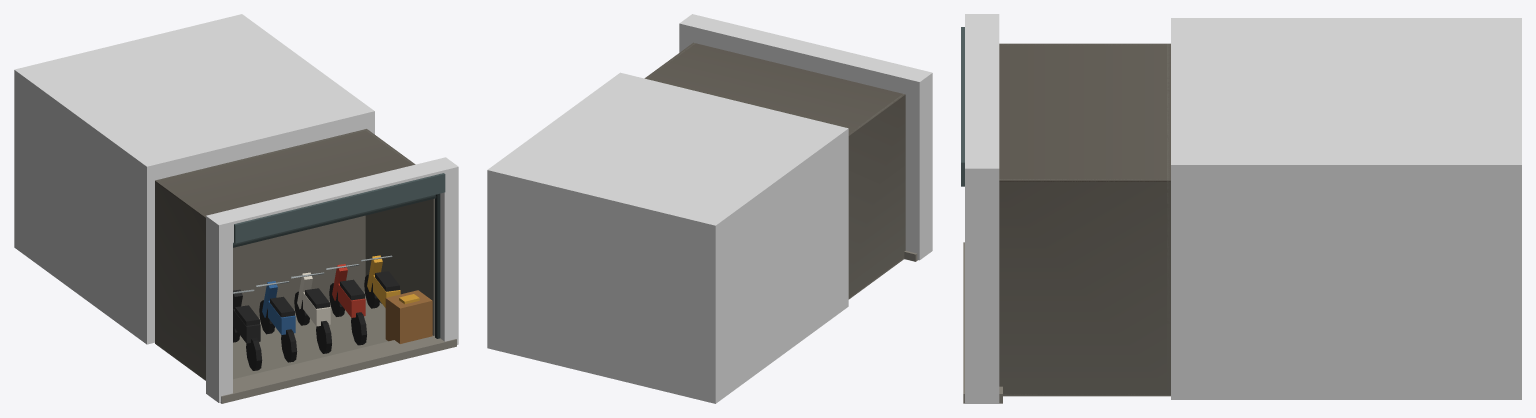
The model's file is tret_gui_xe_48.glb.
The picture shows the model from 3 angles, left to right: view 1: azimuth 30°, elevation 25°; view 2: azimuth 150°, elevation 25°; view 3: azimuth 270°, elevation 25°; orthographic projection. The views are drawn at different scales.
Parts seen in each view (by area): view 1: tret_gui_xe_48; view 2: tret_gui_xe_48; view 3: tret_gui_xe_48.
Part boxes in pixels (box(x1,y1,x2,y2)): tret_gui_xe_48: box(14, 14, 458, 403); tret_gui_xe_48: box(487, 14, 932, 403); tret_gui_xe_48: box(961, 14, 1521, 403).
Size of the model in its own units: 4.8 by 3.42 by 7.35.
